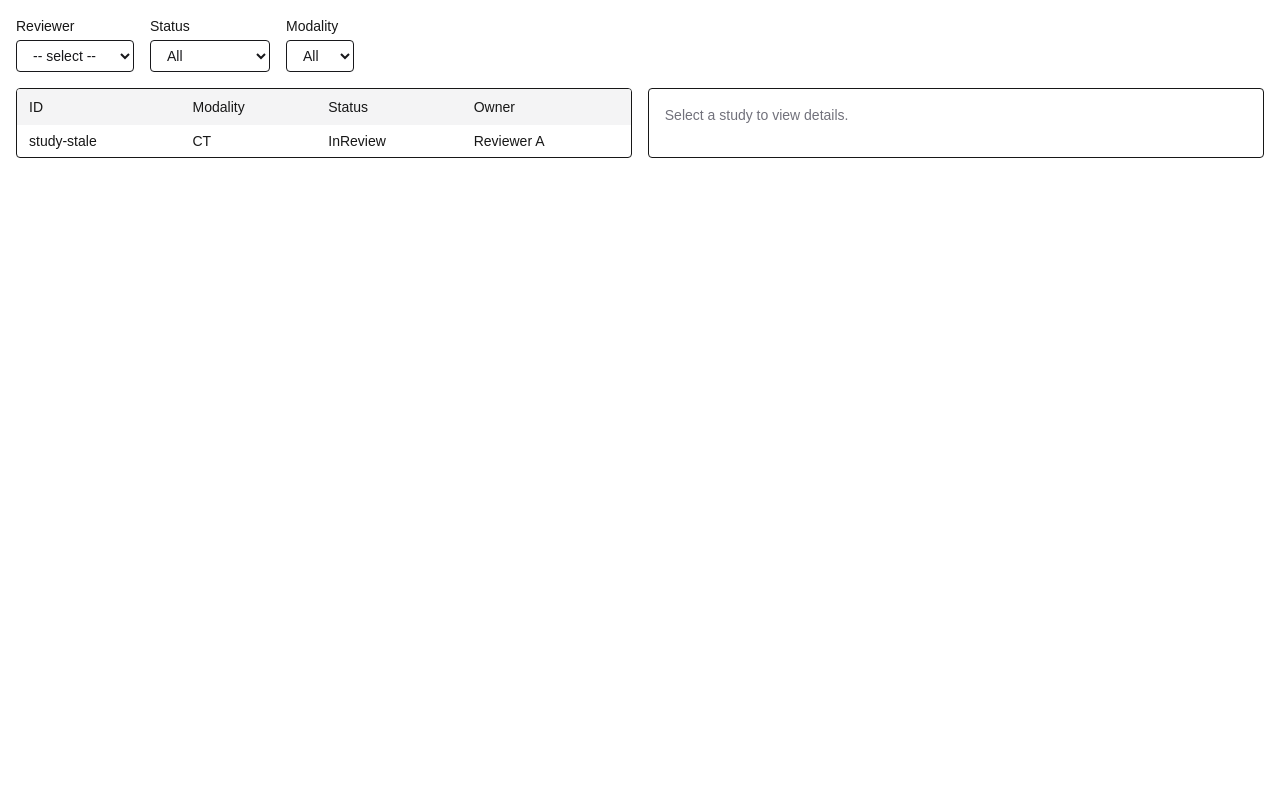
Test case: WorklistClient › preserves a draft and blocks stale completion until acknowledgment
Select "Reviewer A" in the dropdown labelled "Reviewer": (75, 56) [16,40,134,72]
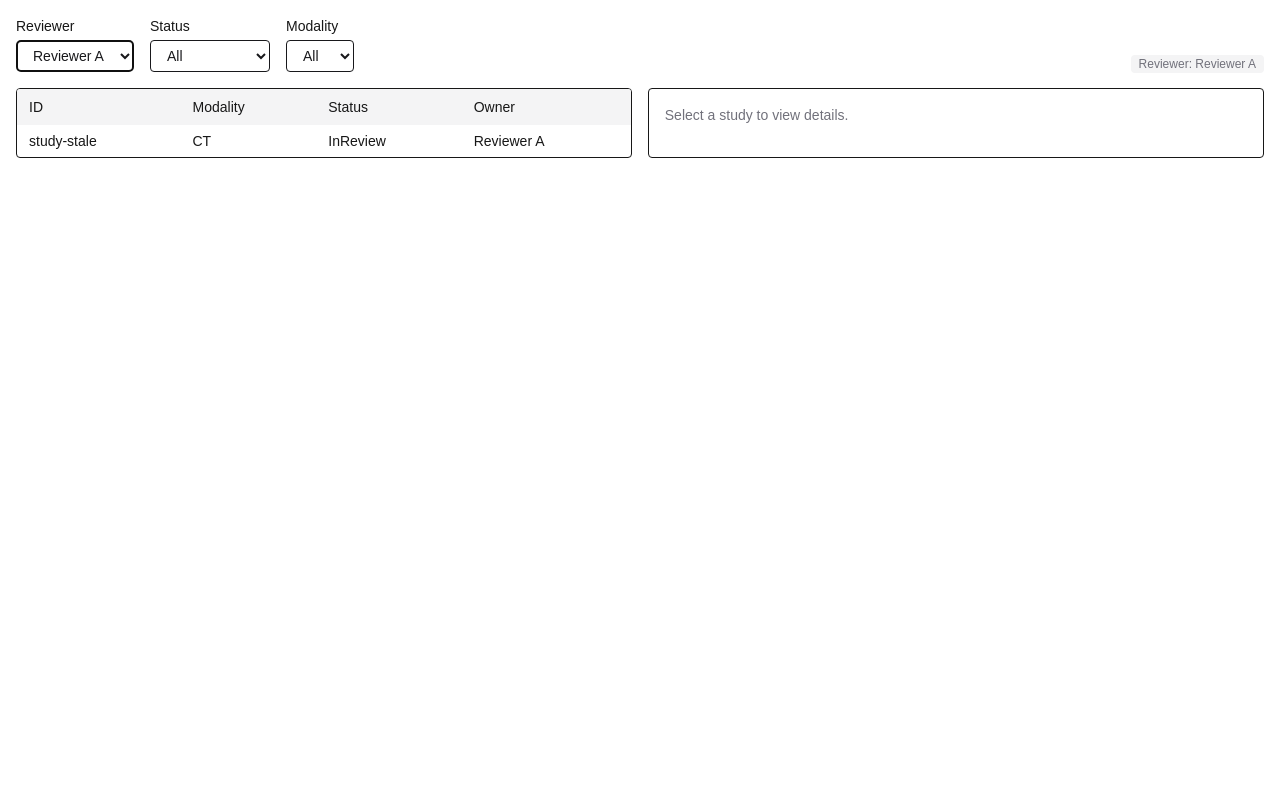
Click the button "study-stale": (99, 141) [29,131,168,151]
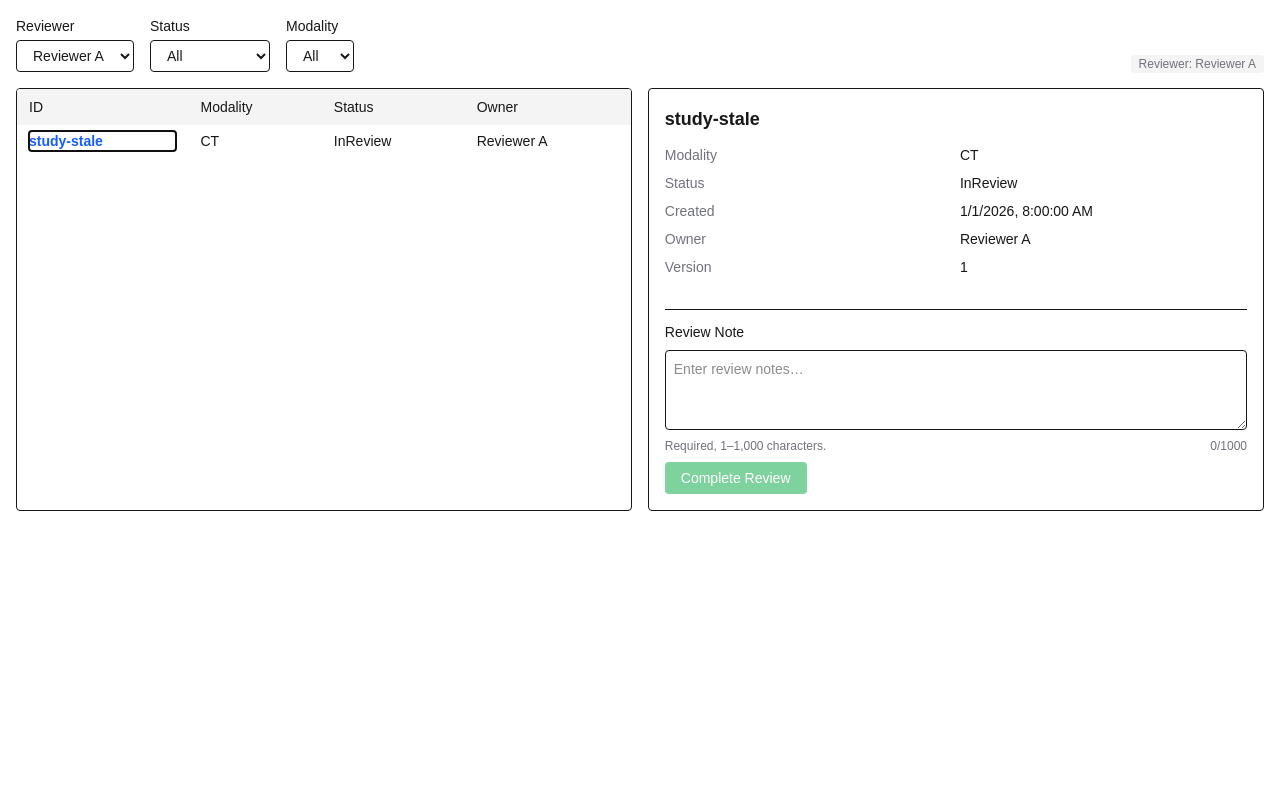
In the text box labelled "Review Note": (956, 390) [665,350,1247,430], type "Keep this draft"
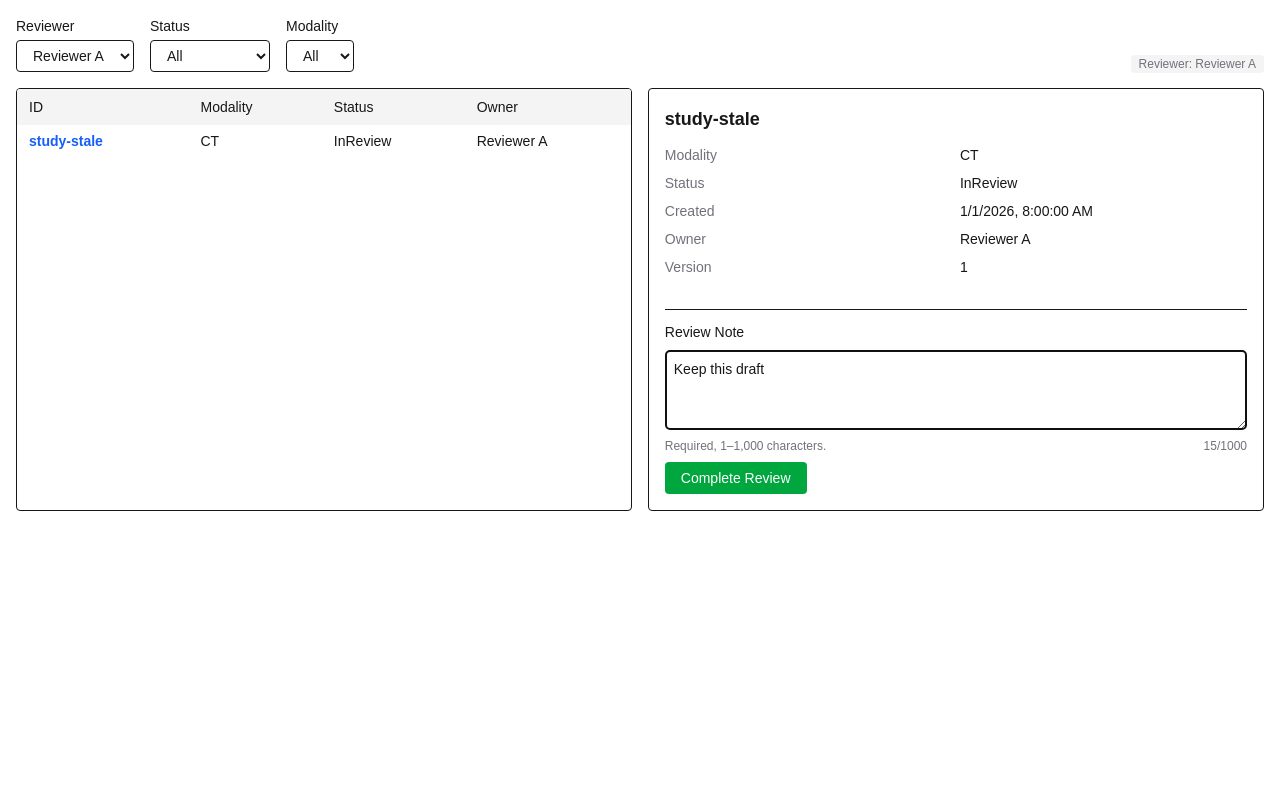
Click the button "Complete Review": (736, 478) [665,462,806,494]
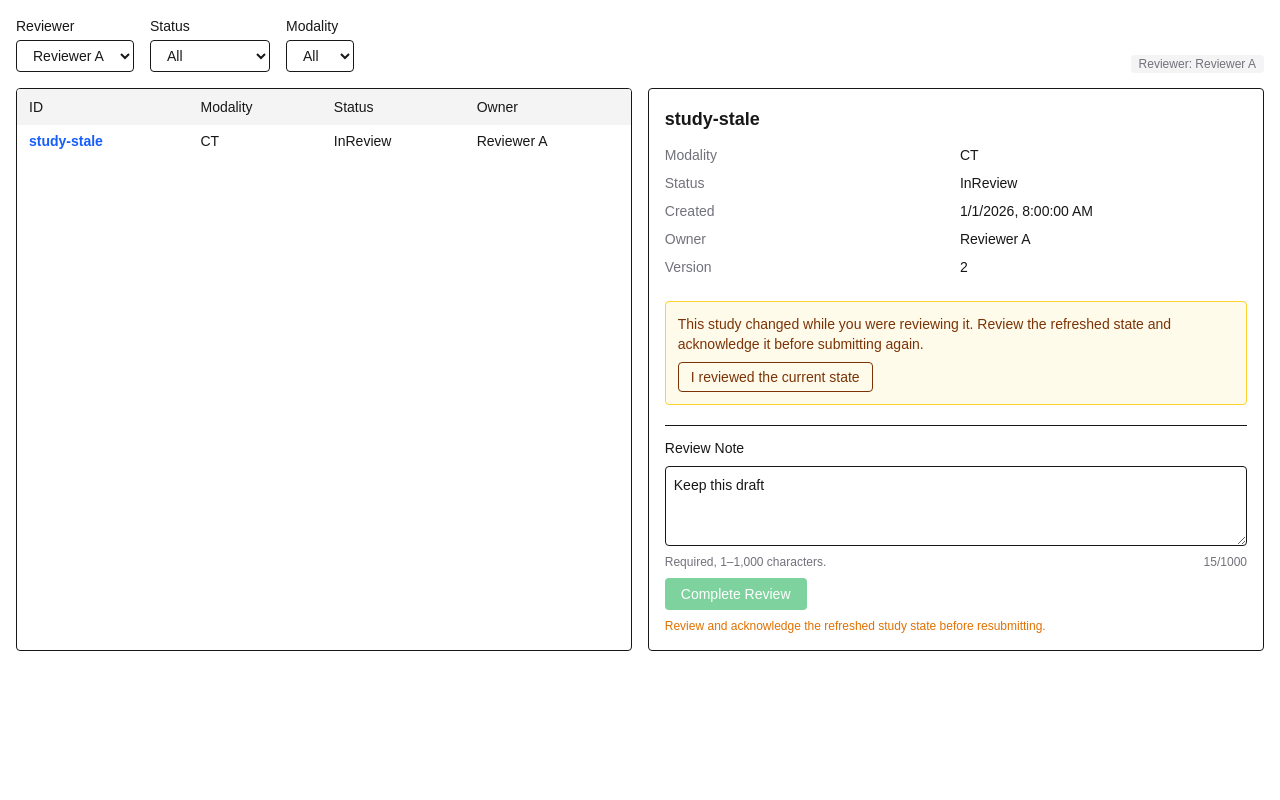
expect the message shows "This study changed while you were reviewing it": met, box [678,316,1171,352]
expect the button "Complete Review" is disabled: met, box [665,578,806,610]
expect the button "I reviewed the current state" is enabled: met
Click the button "I reviewed the current state": (775, 377) [678,362,873,392]
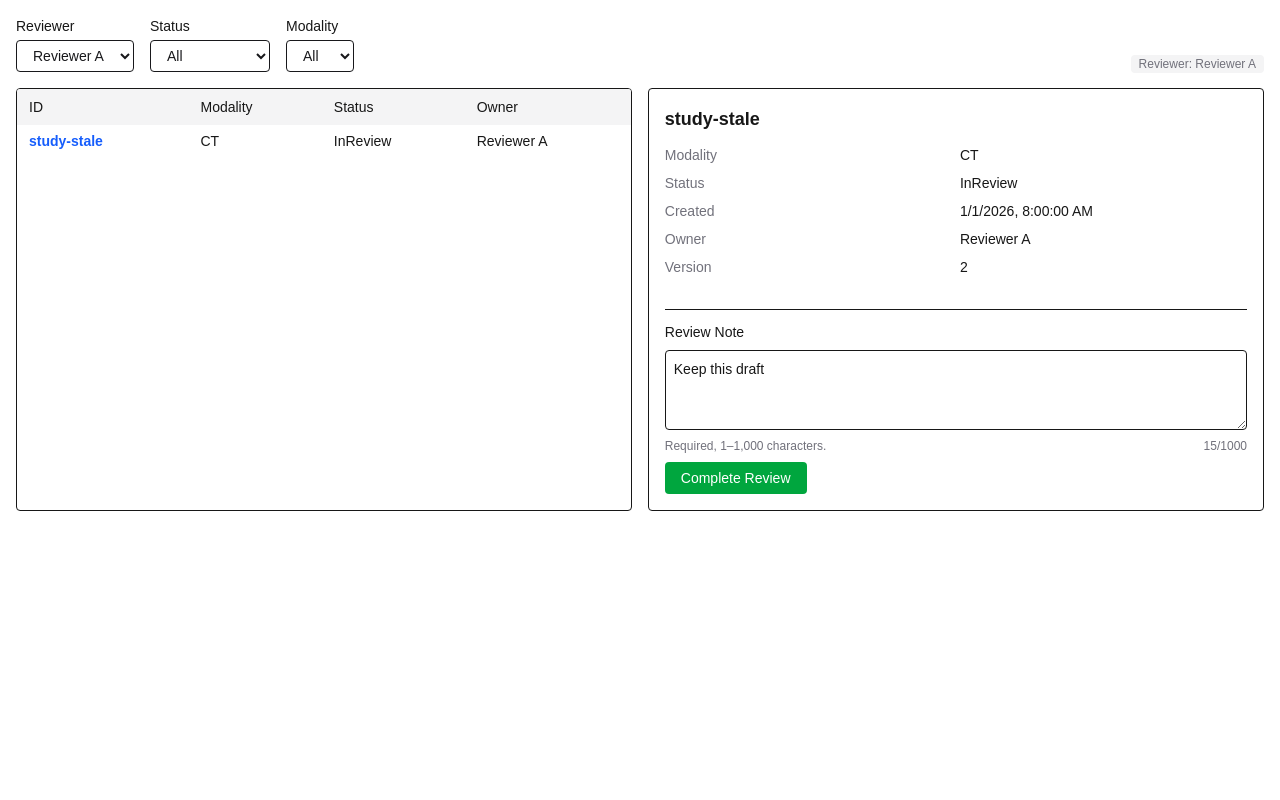
expect the button "Complete Review" is enabled: met, box [665,462,806,494]
